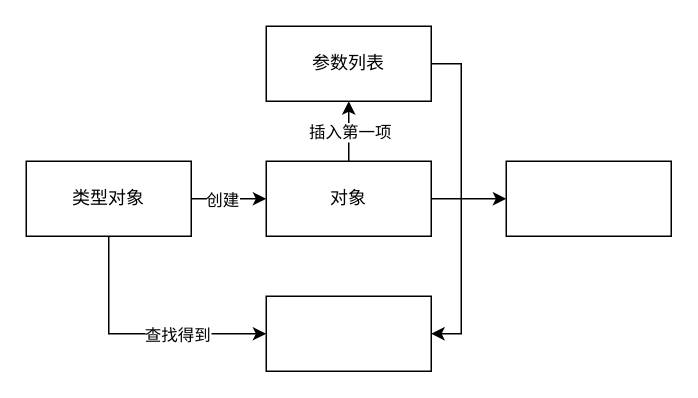
Image size: 698x398. Some labels were removed from this diagram. The shapes that lost their labels are listed below. From the top down, each one's centre as x and y in pixels, then its label:
At point 588,198: "返回值".
At point 348,333: "构造函数".
